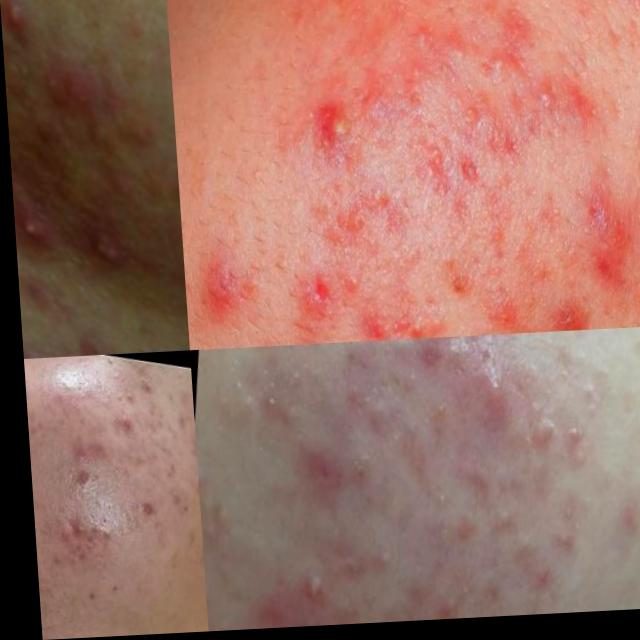8: (180, 248, 267, 334), (453, 355, 516, 459), (537, 489, 589, 562), (528, 287, 592, 338), (289, 444, 339, 509), (31, 68, 90, 123), (474, 505, 516, 550), (514, 556, 555, 601), (602, 501, 640, 547), (108, 415, 137, 454), (124, 496, 159, 527), (63, 471, 87, 497), (63, 522, 85, 543)
9: (305, 95, 358, 167), (472, 41, 523, 101), (276, 555, 319, 615), (0, 0, 41, 54), (11, 202, 46, 254), (602, 0, 640, 28)
blackheads: (503, 60, 627, 177), (309, 166, 424, 276), (566, 201, 640, 331), (392, 6, 481, 101), (402, 128, 460, 210), (79, 220, 130, 285), (445, 148, 494, 208), (518, 406, 551, 460)
dark spot: (322, 549, 357, 598)
